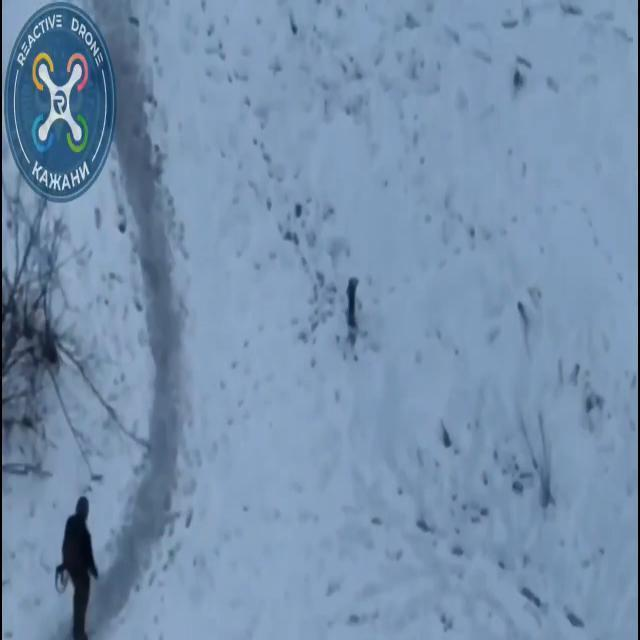MIL_Pax: (62, 498, 98, 639)
